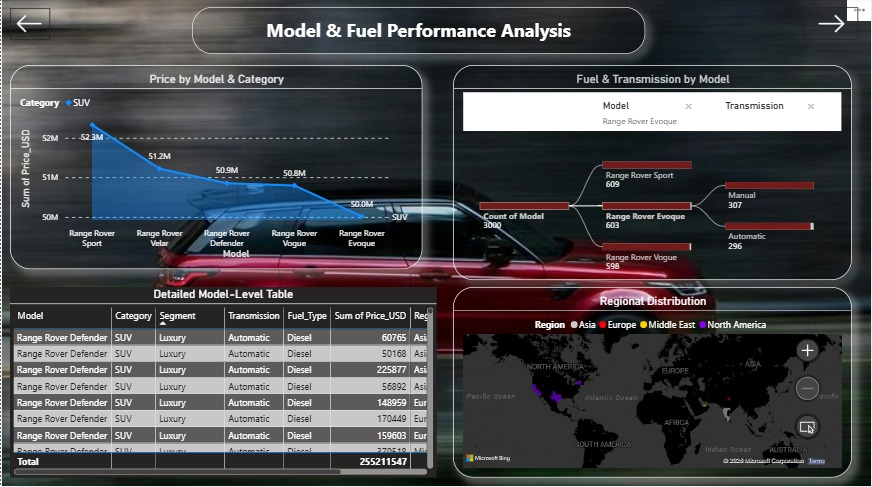

The dashboard page shown, as its layout file describes it:
{"tool":"powerbi","page":{"name":"Page 4","canvas":[1280,720],"ordinal":3},"visuals":[{"type":"image","box":[0,0,1280,720],"z":0},{"type":"image","box":[12.9,15.7,58.6,47.1],"z":1000},{"type":"filledMap","title":"Regional Distribution","fields":{"Category":["Range_Rover_3000_Dataset_With_Transmission_Fuel.State"],"Series":["Range_Rover_3000_Dataset_With_Transmission_Fuel.Region"]},"box":[664.3,425.7,585.7,280],"z":2000},{"type":"image","box":[1178.2,14.4,81.2,48.4],"z":3000},{"type":"decompositionTreeVisual","title":"Fuel & Transmission by Model","fields":{"ExplainBy":["Range_Rover_3000_Dataset_With_Transmission_Fuel.Model","Range_Rover_3000_Dataset_With_Transmission_Fuel.Transmission","Range_Rover_3000_Dataset_With_Transmission_Fuel.Segment"],"Analyze":["CountNonNull(Range_Rover_3000_Dataset_With_Transmission_Fuel.Model)"]},"box":[664.3,100,585.7,315.7],"z":4000},{"type":"tableEx","title":"Detailed Model-Level Table","fields":{"Values":["Range_Rover_3000_Dataset_With_Transmission_Fuel.Model","Range_Rover_3000_Dataset_With_Transmission_Fuel.Category","Range_Rover_3000_Dataset_With_Transmission_Fuel.Segment","Range_Rover_3000_Dataset_With_Transmission_Fuel.Transmission","Range_Rover_3000_Dataset_With_Transmission_Fuel.Fuel_Type","Sum(Range_Rover_3000_Dataset_With_Transmission_Fuel.Price_USD)","Range_Rover_3000_Dataset_With_Transmission_Fuel.Region","Range_Rover_3000_Dataset_With_Transmission_Fuel.State"]},"box":[12.9,425.7,627.1,280],"z":5000},{"type":"lineChart","title":"Price by Model & Category","fields":{"Category":["Range_Rover_3000_Dataset_With_Transmission_Fuel.Model"],"Series":["Range_Rover_3000_Dataset_With_Transmission_Fuel.Category"],"Y":["Sum(Range_Rover_3000_Dataset_With_Transmission_Fuel.Price_USD)"]},"box":[12.9,100,605.7,300],"z":6000},{"type":"textbox","box":[280.7,14.7,665.6,69.1],"z":7000}]}

Visuals, with their boxes in screenshot pixels (x1, y1, x2, y2), scaled from the page's 1280x720 canvas onto the 872x487 screenshot:
image: BBox(0, 0, 871, 486)
image: BBox(9, 11, 49, 42)
"Regional Distribution" filledMap: BBox(453, 288, 852, 477)
image: BBox(803, 10, 858, 42)
"Fuel & Transmission by Model" decompositionTreeVisual: BBox(453, 68, 852, 281)
"Detailed Model-Level Table" tableEx: BBox(9, 288, 436, 477)
"Price by Model & Category" lineChart: BBox(9, 68, 421, 271)
textbox: BBox(191, 10, 645, 57)
